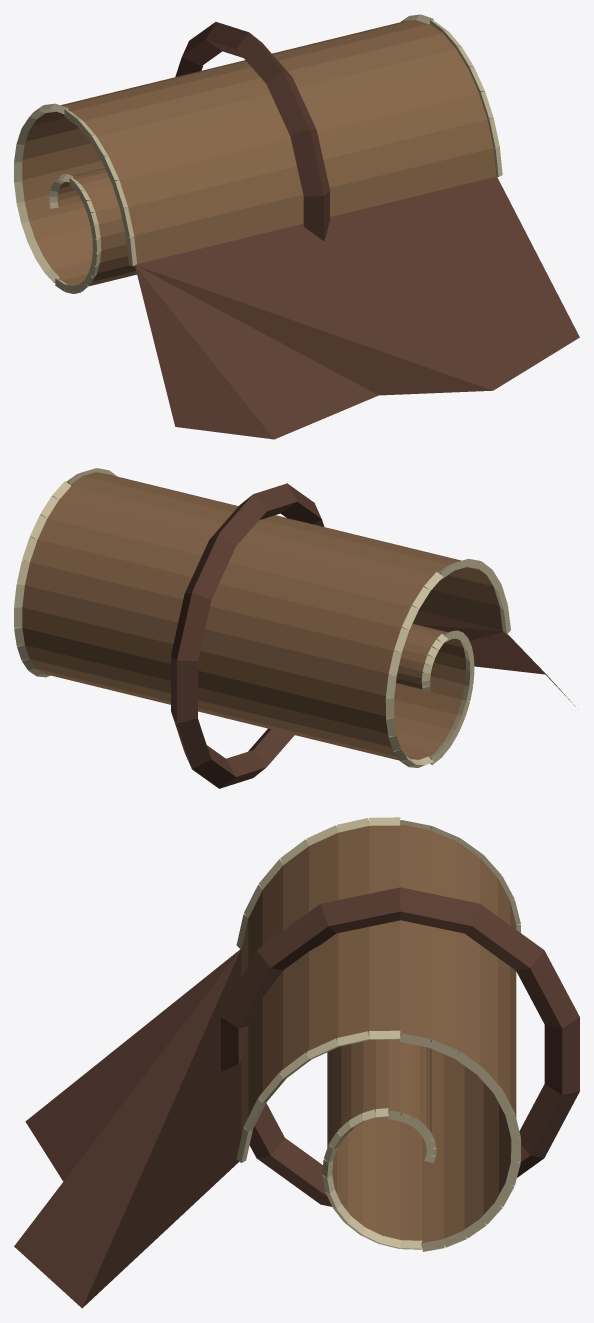
Rendered from hide_scrap.glb.
3 renders of one model, top to bottom at view 1: azimuth 30°, elevation 25°; view 2: azimuth 150°, elevation 25°; view 3: azimuth 270°, elevation 25°, orthographic. The views are drawn at different scales.
Parts seen in each view (by area): view 1: geometry; view 2: geometry; view 3: geometry.
Part boxes in pixels (left/top/right/bottom): geometry: left=14, top=14, right=579, bottom=439; geometry: left=14, top=468, right=578, bottom=788; geometry: left=14, top=817, right=579, bottom=1308.
Bounding box in the file's own units: 0.48 × 0.324 × 0.4979.
